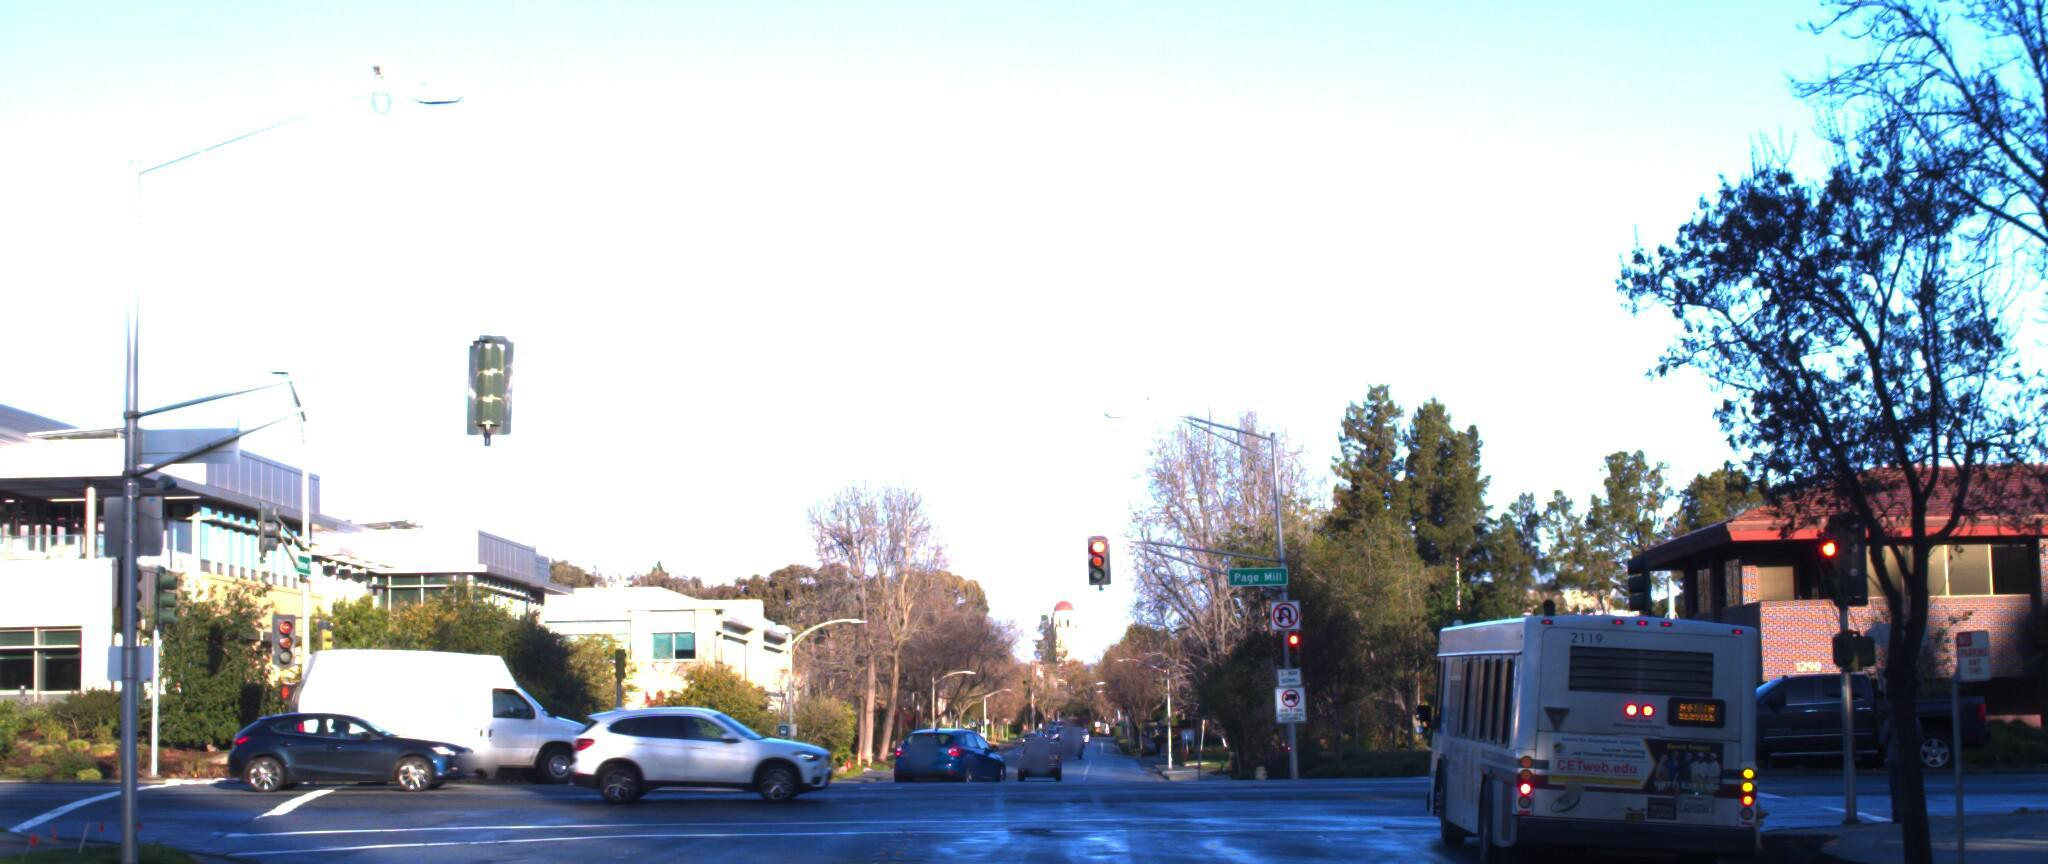bus: (1403, 559, 1766, 864)
car: (266, 645, 594, 782), (1635, 654, 1977, 764), (556, 696, 829, 796), (217, 700, 477, 794), (876, 723, 1016, 797)
